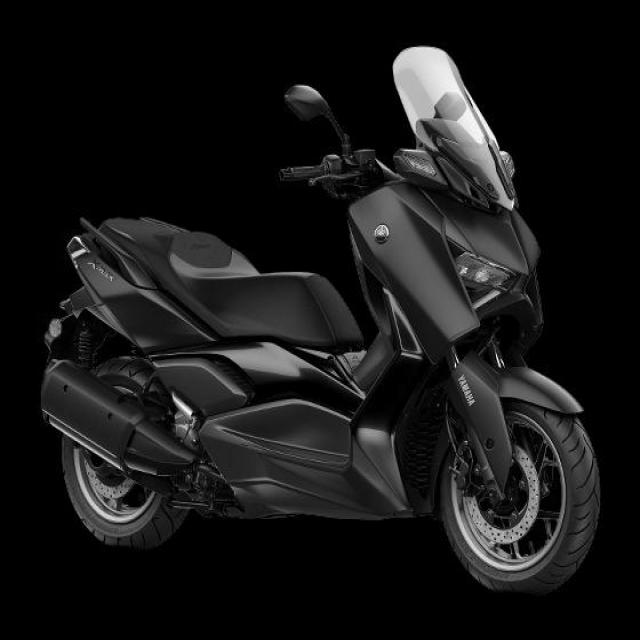Motorcycle: (41, 47, 601, 595)
